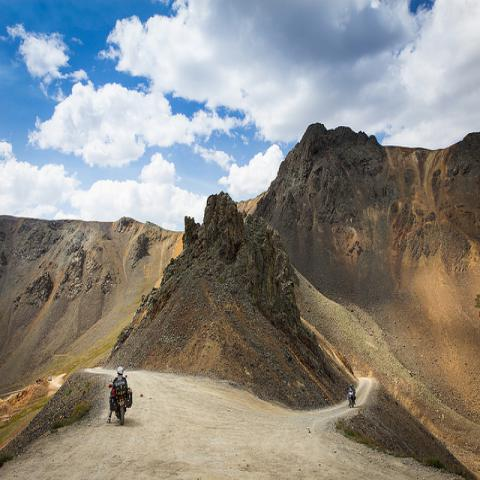motorcycle: (108, 374, 133, 425), (345, 389, 355, 409)
